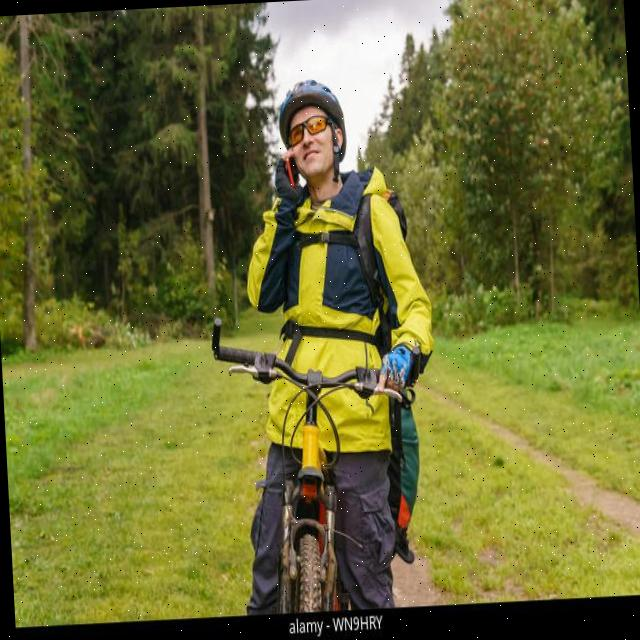Using mobile: (235, 61, 382, 260)
